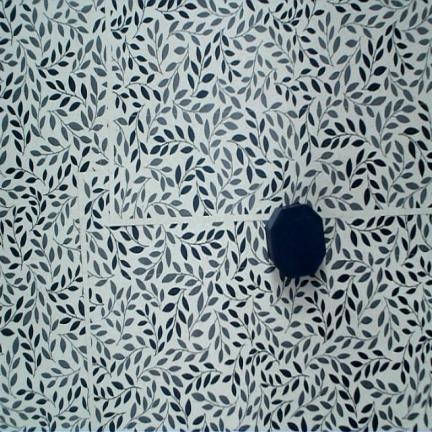Prisma_hexagonal: (265, 203, 326, 278)
